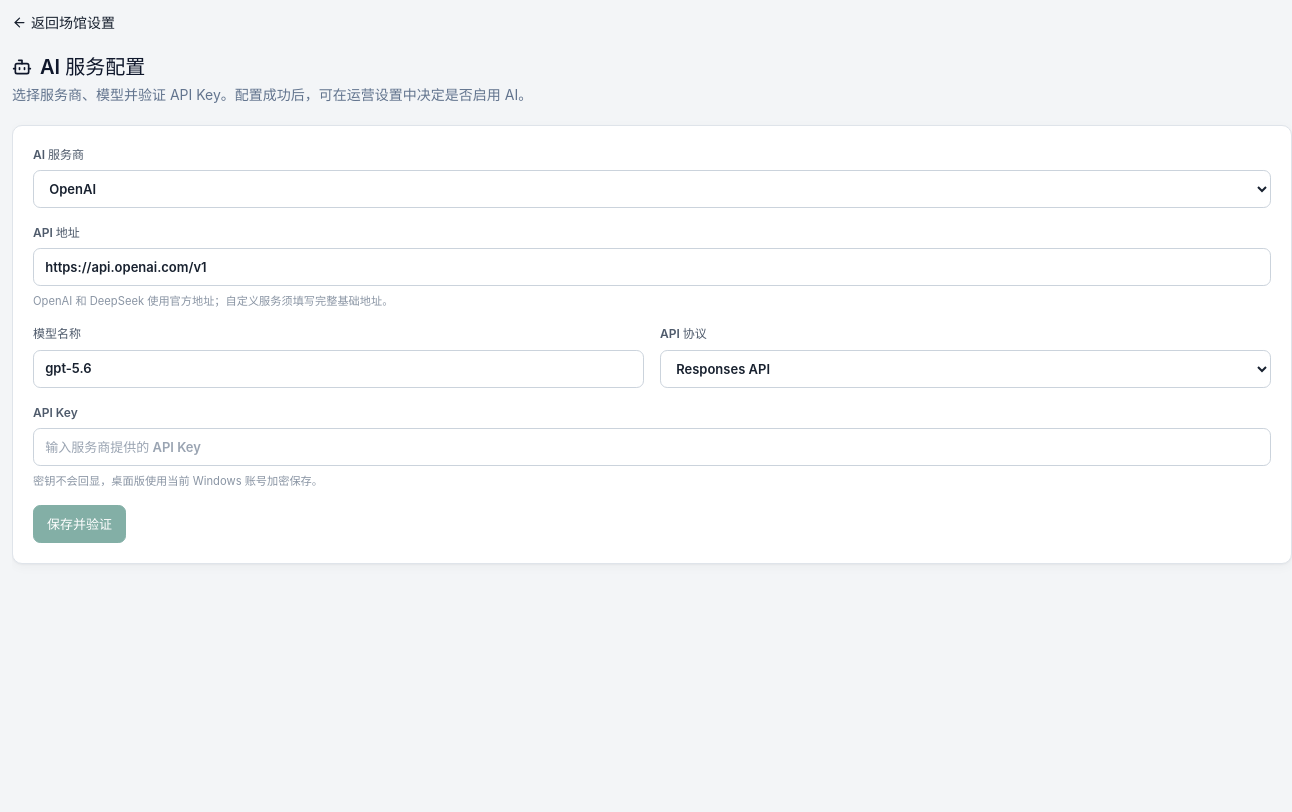
AI service settings › uses the DeepSeek endpoint and Chat Completions protocol
Select "DeepSeek" in the dropdown labelled "AI 服务商" at (652,189), box [33, 170, 1271, 208]
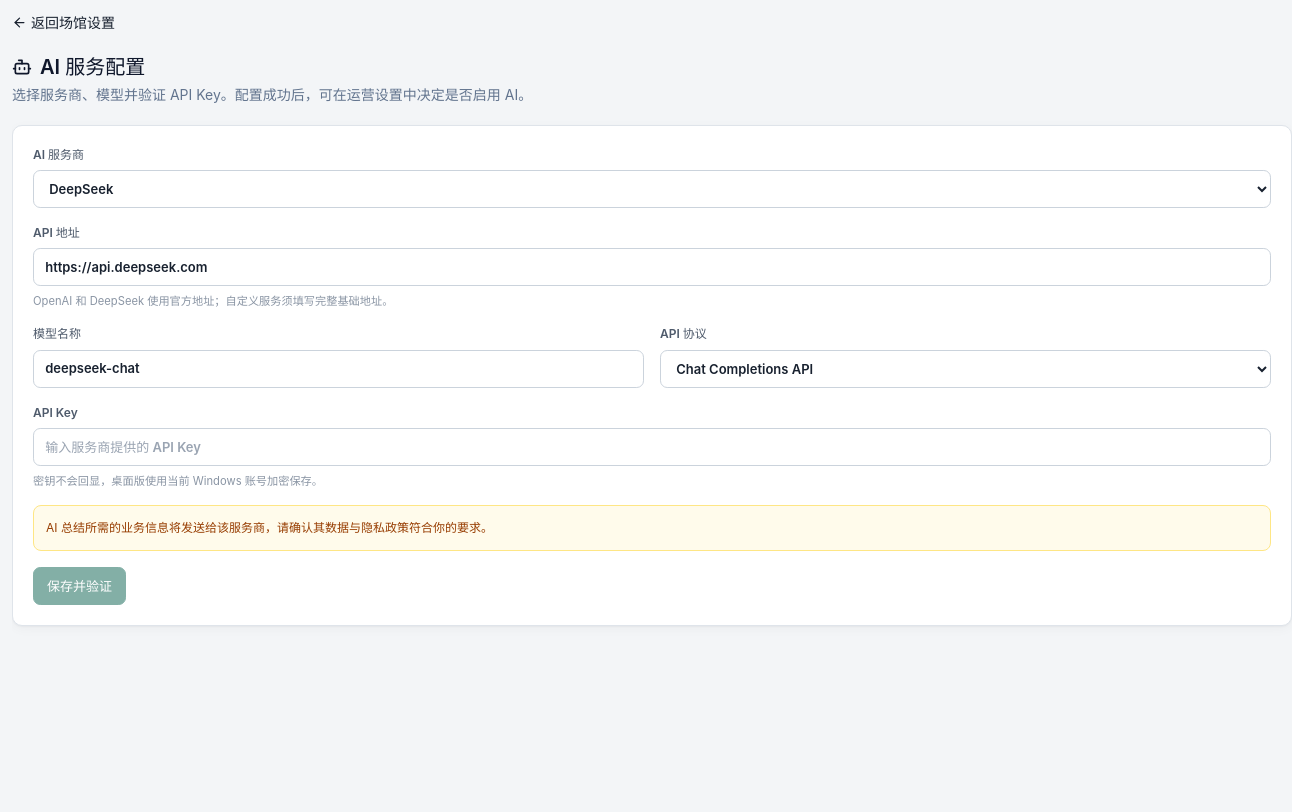
Expected: the field labelled "API 地址" holds "https://api.deepseek.com", [33, 248, 1271, 286]
Expected: the dropdown labelled "API 协议" shows "Chat Completions API", [660, 350, 1271, 388]
Expected: the field labelled "模型名称" holds "deepseek-chat", [33, 350, 644, 388]
Type "sk-deepseek-test" into the password field labelled "API Key".
click(652, 447); type("sk-deepseek-test")  # box [33, 428, 1271, 466]
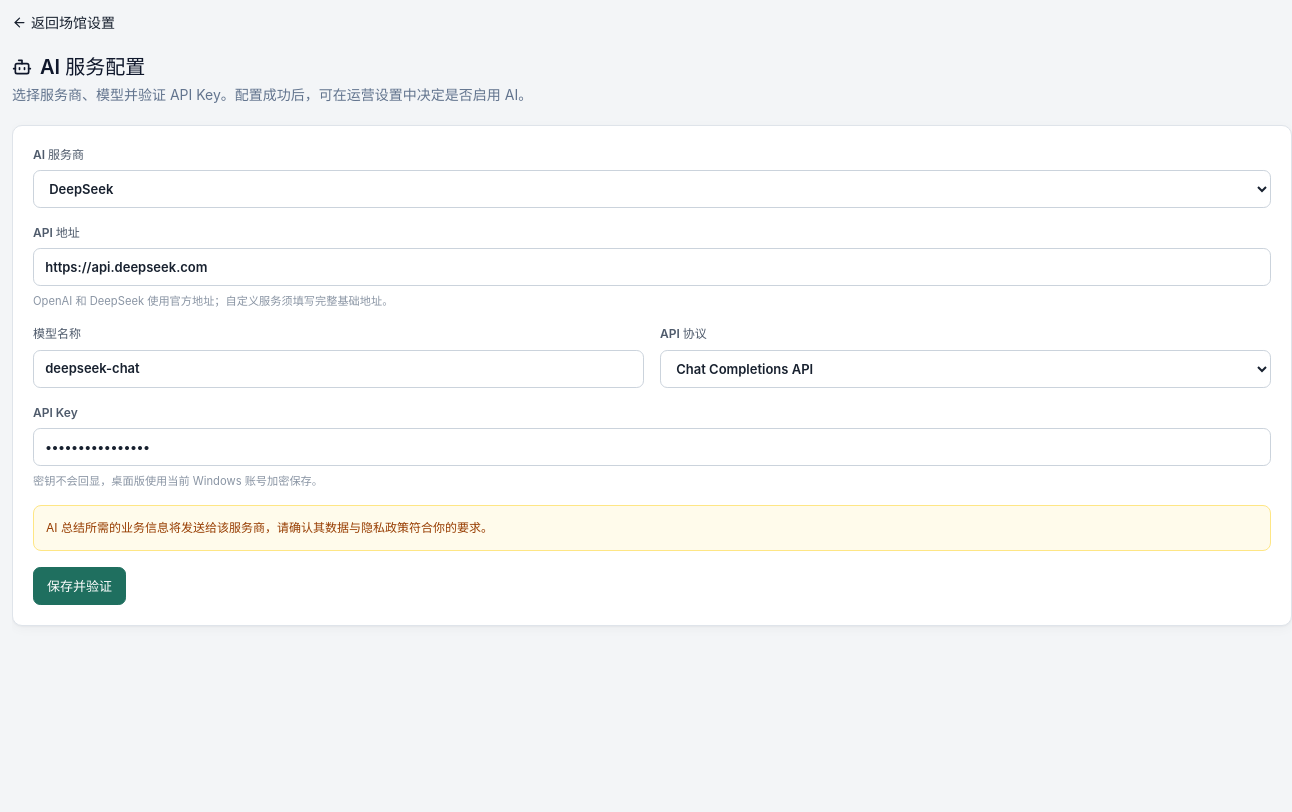
Click the button "保存并验证".
click(80, 586)  # box [33, 567, 126, 605]
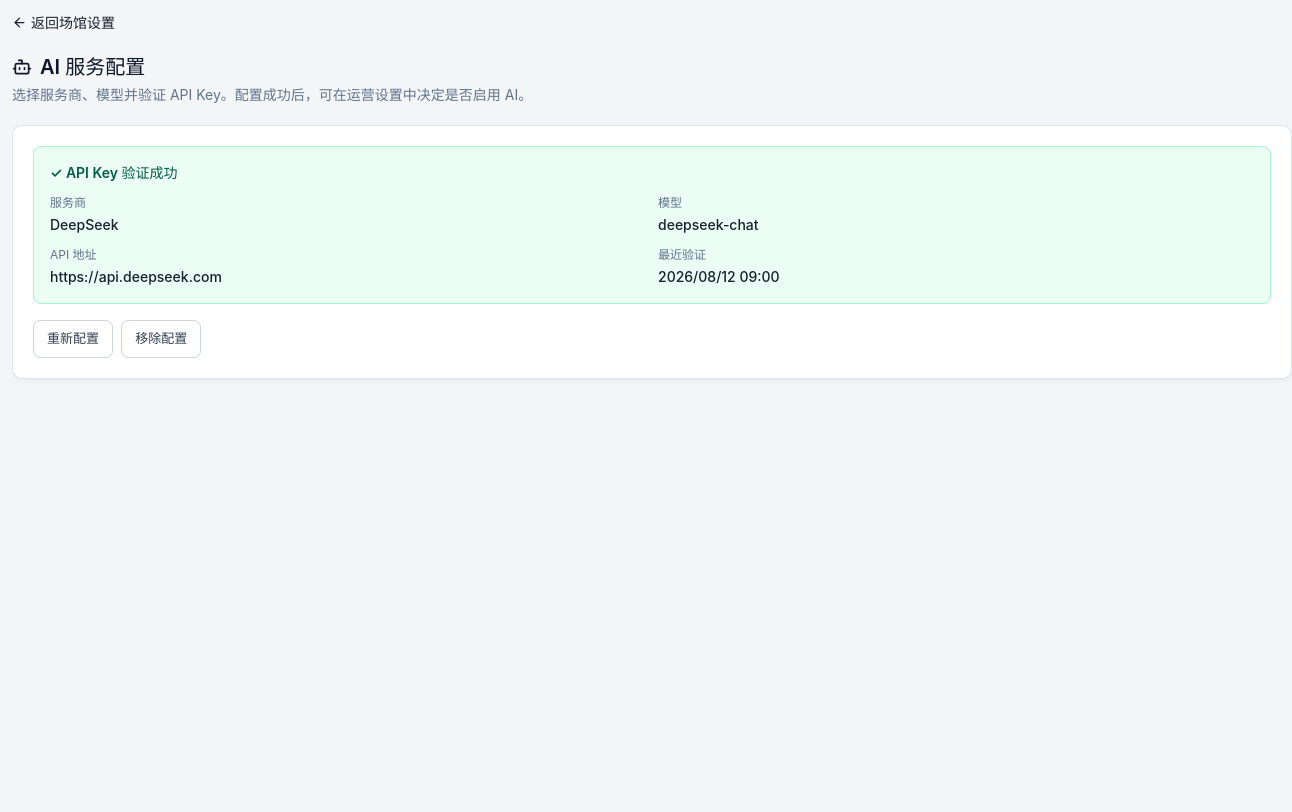
Expected: the text "DeepSeek" is shown, [50, 216, 118, 232]
